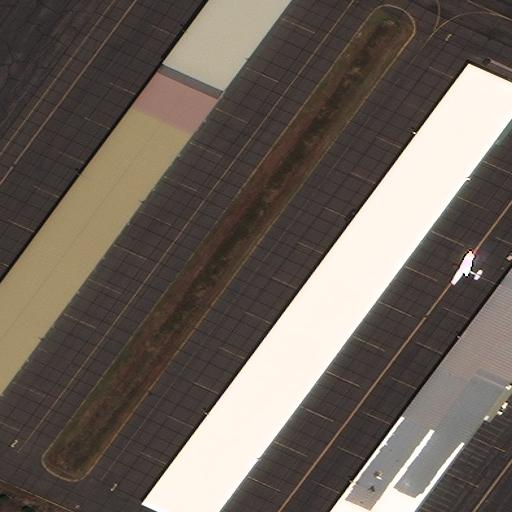Small Civil Transport: (451, 253, 481, 282)
